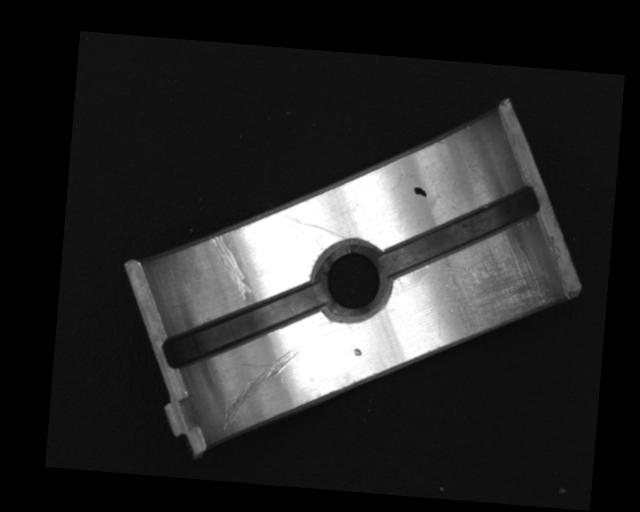blot: (412, 186, 428, 197)
bruise: (352, 347, 362, 357)
gap: (381, 175, 543, 285), (158, 272, 325, 378)
hole: (310, 236, 393, 323)
nick: (221, 343, 301, 438), (204, 233, 258, 305), (271, 212, 348, 239)
scratch: (439, 229, 562, 352)
